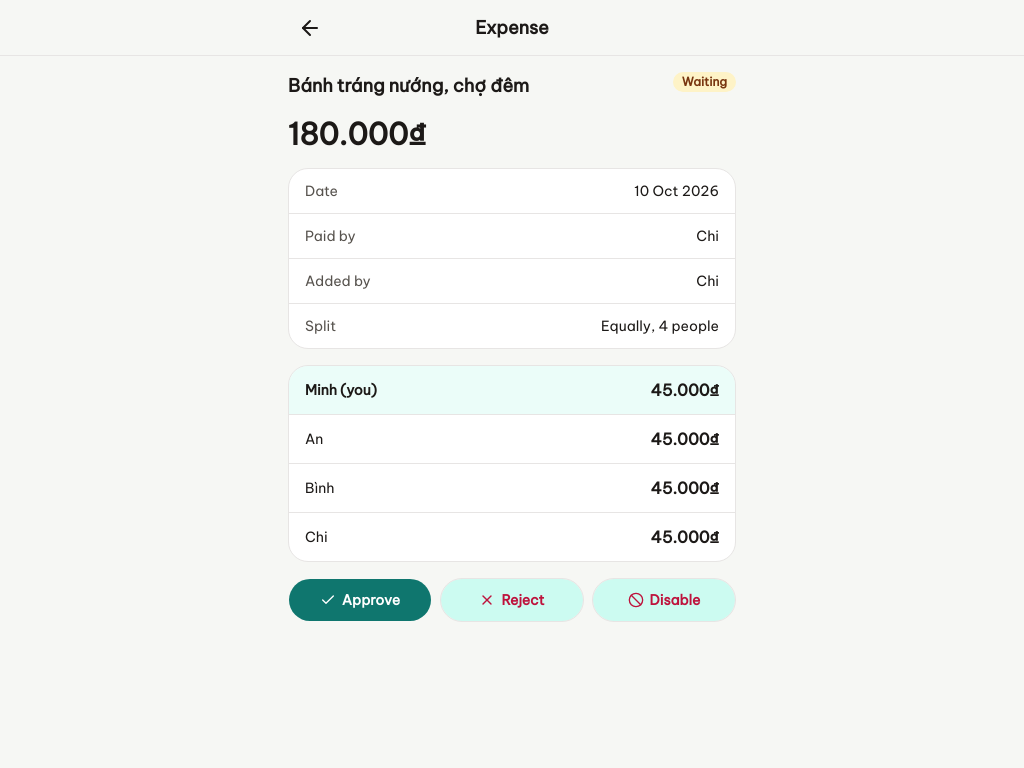
Test: transaction details › says which new person to approve first when approving is turned down
Click the button "Approve": click(360, 600) [288,578,432,622]
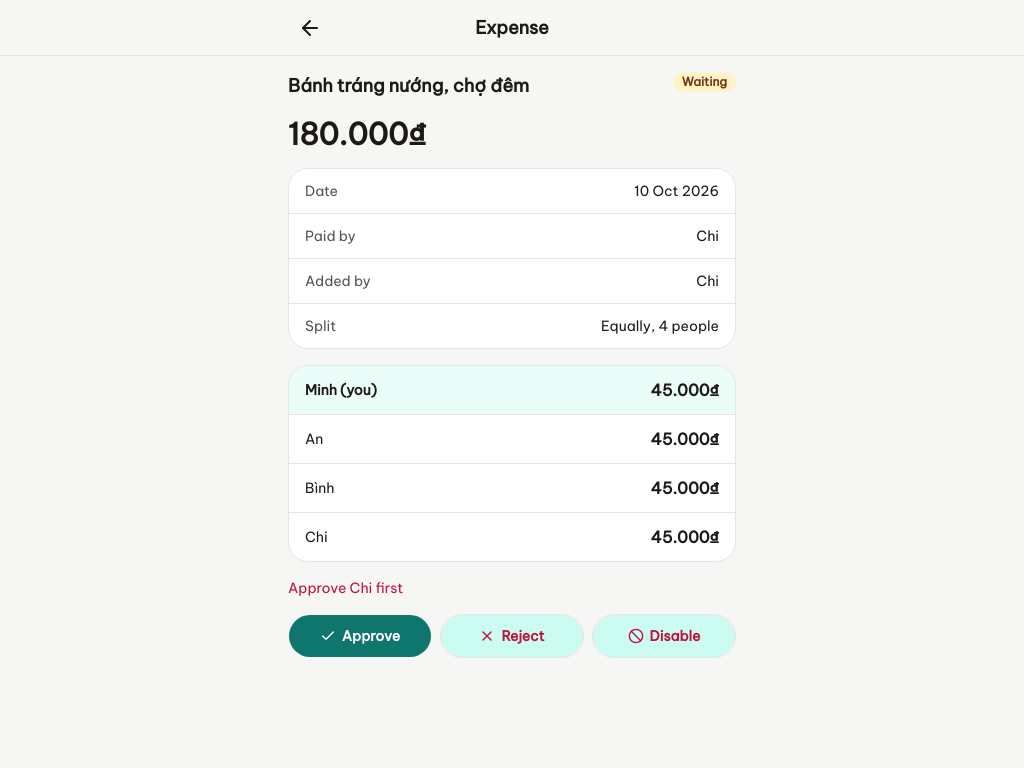
Expected: the message reads "Approve Chi first", [288,579,403,597]
